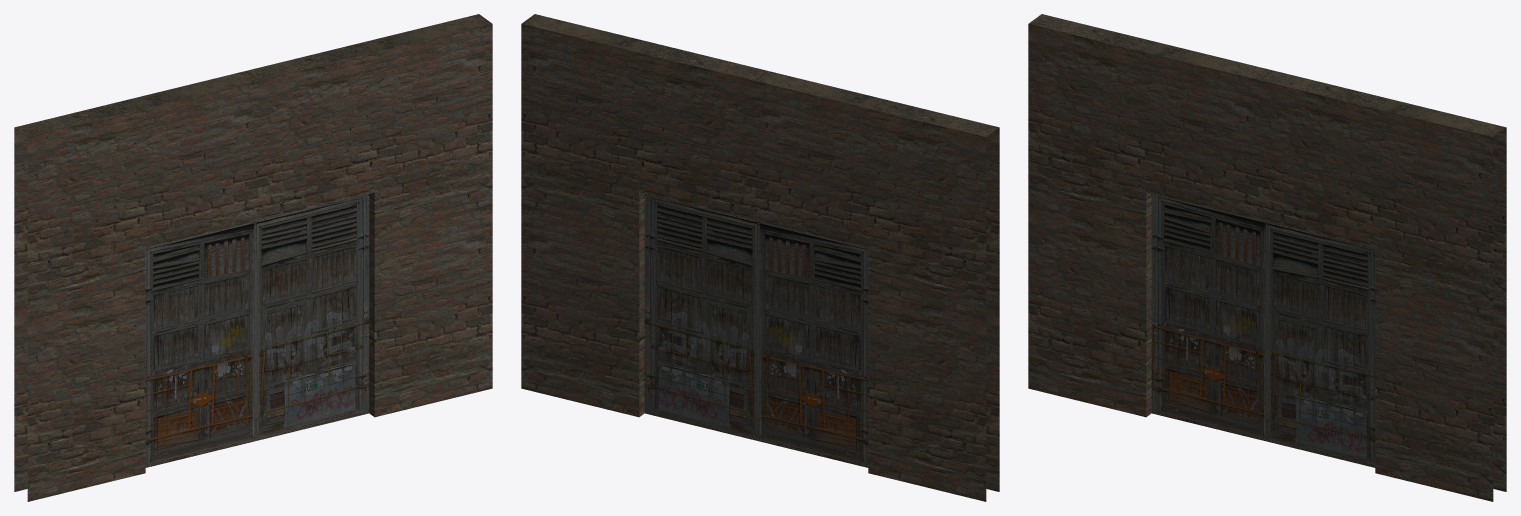
Rendered from garage_door_frame_hr_1.glb.
The picture shows the model from 3 angles, left to right: view 1: azimuth 30°, elevation 25°; view 2: azimuth 150°, elevation 25°; view 3: azimuth 330°, elevation 25°; orthographic projection.
Parts seen in each view (by area): view 1: garage_door_frame_hr_1, garage_door_hr_2_piece_2, garage_door_hr_2_piece_1; view 2: garage_door_frame_hr_1, garage_door_hr_2_piece_2, garage_door_hr_2_piece_1; view 3: garage_door_frame_hr_1, garage_door_hr_2_piece_1, garage_door_hr_2_piece_2.
Boxes of the visible parts, box(x1,y1,x2,y2) form: garage_door_frame_hr_1: box(14, 14, 492, 501); garage_door_hr_2_piece_2: box(255, 194, 369, 441); garage_door_hr_2_piece_1: box(145, 221, 254, 467); garage_door_frame_hr_1: box(521, 14, 999, 501); garage_door_hr_2_piece_2: box(644, 194, 758, 441); garage_door_hr_2_piece_1: box(759, 221, 868, 467); garage_door_frame_hr_1: box(1028, 14, 1506, 501); garage_door_hr_2_piece_1: box(1151, 194, 1265, 441); garage_door_hr_2_piece_2: box(1266, 221, 1375, 467).
Bounding box in the file's own units: 8 × 6 × 0.4.
Materials: 3 (3 with a texture image).
